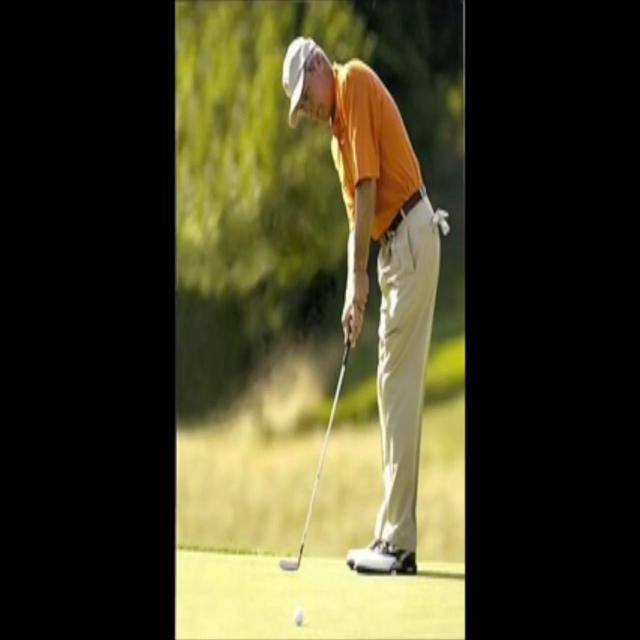ClubHead: (270, 535, 312, 581)
GolfBall: (288, 599, 309, 632)
